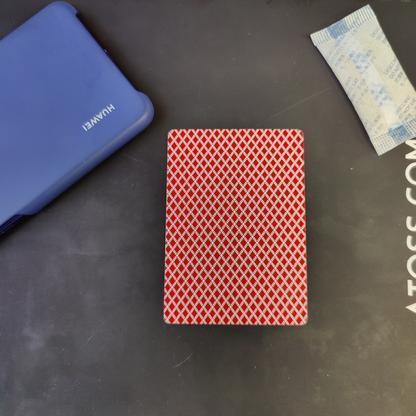card: (154, 121, 315, 331)
